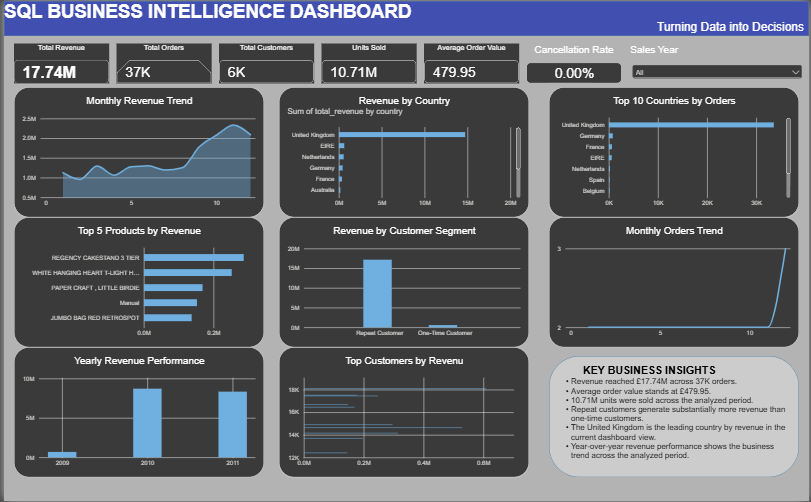

What the dashboard file says about the page in this screenshot:
{"tool":"powerbi","page":{"name":"Executive Dashboard","canvas":[1610,1000],"ordinal":0},"visuals":[{"type":"shape","box":[0,0,1610,70],"z":0},{"type":"shape","box":[1090,710,500,242.5],"z":1000},{"type":"textbox","box":[0,36.7,1600,76.7],"z":3000},{"type":"cardVisual","title":"Total Revenue ","fields":{"Data":["Sum(executive kpis.total_revenue)"]},"box":[20,85,190,80],"z":4000},{"type":"textbox","box":[0,0,1920,165],"z":4500},{"type":"cardVisual","title":"Total Orders ","fields":{"Data":["Sum(executive kpis.total_orders)"]},"box":[225,85,190,80],"z":5000},{"type":"cardVisual","title":"Total Customers","fields":{"Data":["Sum(executive kpis.total_customers)"]},"box":[430,85,190,80],"z":6000},{"type":"cardVisual","title":"Units Sold","fields":{"Data":["Sum(executive kpis.units_sold)"]},"box":[635,85,190,80],"z":7000},{"type":"cardVisual","title":"Average Order Value","fields":{"Data":["Sum(executive kpis.average_order_value)"]},"box":[840,85,190,80],"z":8000},{"type":"lineChart","title":"Monthly Revenue Trend","fields":{"Category":["monthly sales.sales_month"],"Y":["Sum(monthly sales.total_revenue)"]},"box":[19.9,171.9,500,260],"z":9000},{"type":"clusteredBarChart","title":"Revenue by Country","fields":{"Category":["country sales.country"],"Y":["Sum(country sales.total_revenue)"]},"box":[550,172.5,500,260],"z":10000},{"type":"clusteredBarChart","title":"Top 5 Products by Revenue","fields":{"Category":["top products.description"],"Y":["Sum(top products.total_revenue)"]},"box":[20,432.5,500,260],"z":11000},{"type":"clusteredColumnChart","title":"Revenue by Customer Segment","fields":{"Category":["customer segments.customer_type"],"Y":["Sum(customer segments.total_revenue)"]},"box":[550,432.5,500,260],"z":12000},{"type":"clusteredColumnChart","title":"Yearly Revenue Performance","fields":{"Category":["yearly sales.sales_year"],"Y":["Sum(yearly sales.total_revenue)"]},"box":[20,692.5,500,260],"z":13000},{"type":"clusteredBarChart","title":"Top Customers by Revenu","fields":{"Category":["customer sales.customer_id"],"Y":["Sum(customer sales.total_revenue)"]},"box":[550,692.5,500,260],"z":14000},{"type":"clusteredBarChart","title":"Top 10 Countries by Orders","fields":{"Category":["country sales.country"],"Y":["Sum(country sales.total_orders)"]},"box":[1090,172.5,500,260],"z":15000},{"type":"slicer","title":"Sales Year","fields":{"Values":["monthly sales.sales_year"]},"box":[1251.4,84.3,348.6,81.4],"z":16000},{"type":"cardVisual","title":"Cancellation Rate","fields":{"Data":["cancellation summary.Cancellation Rate"]},"box":[1045,85,190,80],"z":17000},{"type":"lineChart","title":"Monthly Orders Trend","fields":{"Category":["monthly sales.sales_month"],"Y":["CountNonNull(monthly sales.total_orders)"]},"box":[1090,432.5,500,260],"z":18000},{"type":"textbox","box":[1157.5,727.5,762.5,25],"z":19000},{"type":"textbox","box":[1110,752.5,460,327.5],"z":22000}]}

Visuals, with their boxes in screenshot pixels (x1, y1, x2, y2), scaled from the page's 1610x1000 canvas onto the 811x502 screenshot:
shape: <bbox>0, 0, 810, 35</bbox>
shape: <bbox>549, 356, 801, 478</bbox>
textbox: <bbox>0, 18, 806, 57</bbox>
"Total Revenue " cardVisual: <bbox>10, 43, 106, 83</bbox>
textbox: <bbox>0, 0, 810, 83</bbox>
"Total Orders " cardVisual: <bbox>113, 43, 209, 83</bbox>
"Total Customers" cardVisual: <bbox>217, 43, 312, 83</bbox>
"Units Sold" cardVisual: <bbox>320, 43, 416, 83</bbox>
"Average Order Value" cardVisual: <bbox>423, 43, 519, 83</bbox>
"Monthly Revenue Trend" lineChart: <bbox>10, 86, 262, 217</bbox>
"Revenue by Country" clusteredBarChart: <bbox>277, 87, 529, 217</bbox>
"Top 5 Products by Revenue" clusteredBarChart: <bbox>10, 217, 262, 348</bbox>
"Revenue by Customer Segment" clusteredColumnChart: <bbox>277, 217, 529, 348</bbox>
"Yearly Revenue Performance" clusteredColumnChart: <bbox>10, 348, 262, 478</bbox>
"Top Customers by Revenu" clusteredBarChart: <bbox>277, 348, 529, 478</bbox>
"Top 10 Countries by Orders" clusteredBarChart: <bbox>549, 87, 801, 217</bbox>
"Sales Year" slicer: <bbox>630, 42, 806, 83</bbox>
"Cancellation Rate" cardVisual: <bbox>526, 43, 622, 83</bbox>
"Monthly Orders Trend" lineChart: <bbox>549, 217, 801, 348</bbox>
textbox: <bbox>583, 365, 810, 378</bbox>
textbox: <bbox>559, 378, 791, 501</bbox>
